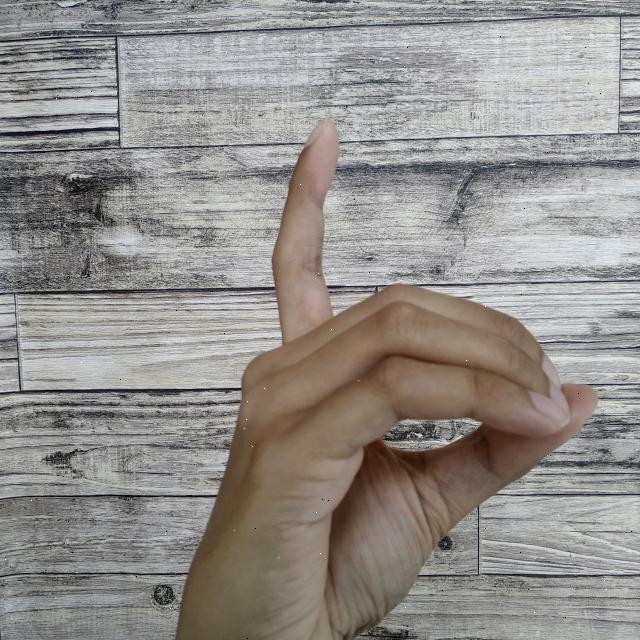D: (165, 114, 600, 640)
